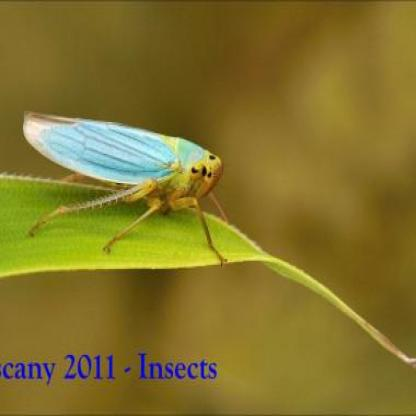Green-Leafhopper: (18, 108, 232, 261)
